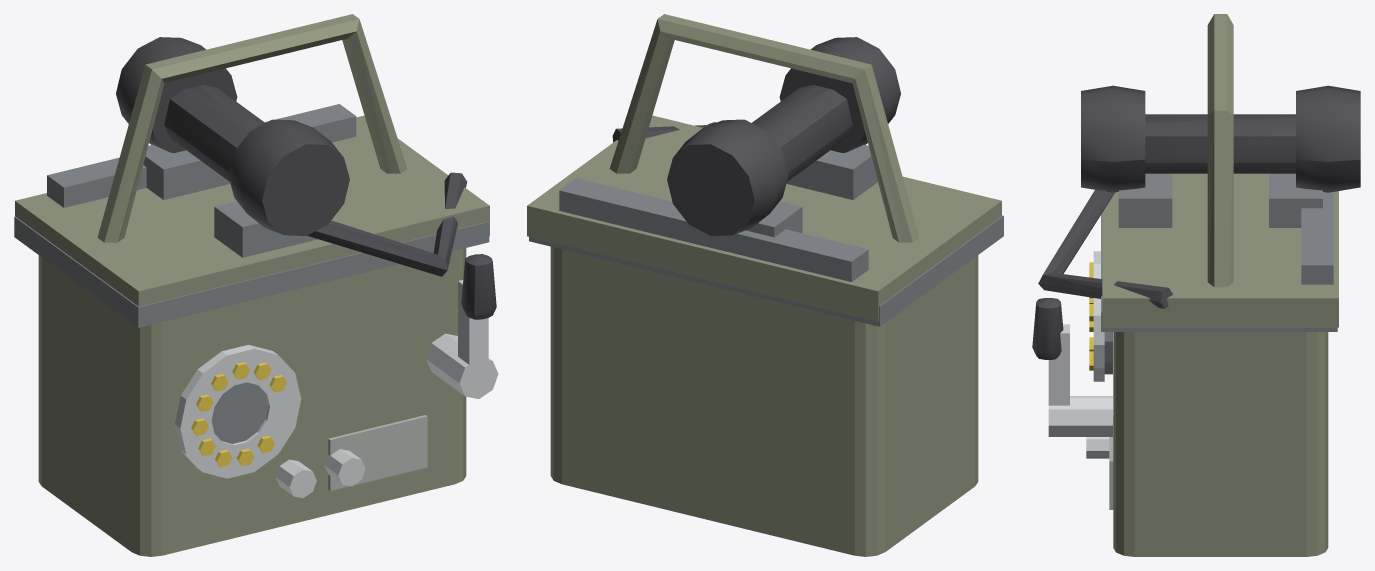
Rendered from cold-war-missile-silo-and-command-bunker-field-telepho-72088957__15683.glb.
3 renders of one model, left to right at view 1: azimuth 30°, elevation 25°; view 2: azimuth 150°, elevation 25°; view 3: azimuth 270°, elevation 25°, orthographic. The views are drawn at different scales.
Parts seen in each view (by area): view 1: field-telephone; view 2: field-telephone; view 3: field-telephone.
Part boxes in pixels (x1,y1,x2,y2): field-telephone: [14, 14, 498, 556]; field-telephone: [527, 14, 1003, 556]; field-telephone: [1032, 14, 1360, 556].
Size of the model in its own units: 0.3693 by 0.4282 by 0.305.
